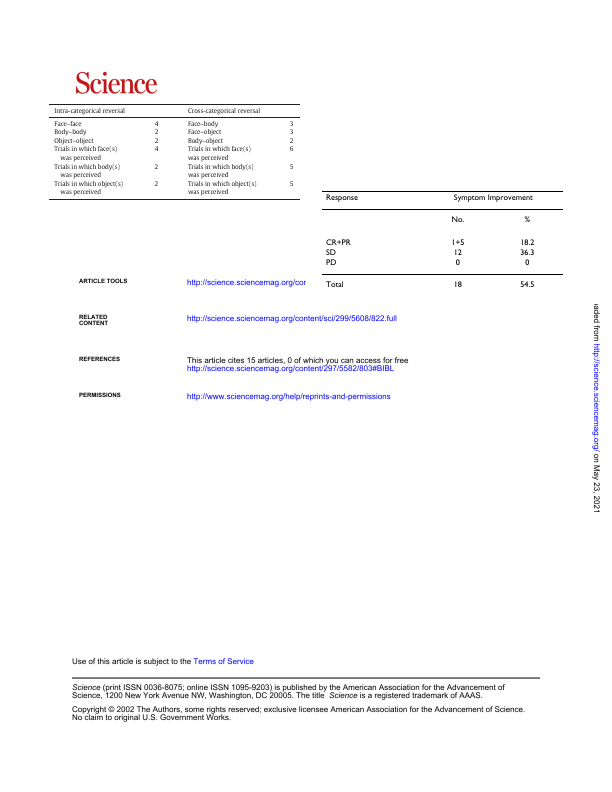borderless: (320, 189, 564, 298), (48, 102, 300, 199)
cell: (53, 180, 124, 197), (187, 180, 258, 197), (53, 162, 121, 179), (187, 162, 255, 179), (53, 145, 118, 162), (187, 145, 252, 162), (452, 194, 533, 203), (187, 107, 261, 115), (53, 107, 126, 115), (53, 137, 95, 145), (53, 128, 88, 137), (187, 128, 222, 137), (324, 194, 358, 203), (187, 137, 224, 145), (324, 238, 351, 248), (187, 120, 219, 128), (53, 120, 83, 128), (324, 281, 344, 290), (519, 238, 535, 248), (519, 248, 535, 258), (450, 238, 465, 248), (519, 281, 535, 290), (450, 216, 465, 225), (324, 248, 336, 258), (324, 259, 337, 268), (452, 248, 462, 258), (452, 281, 462, 290), (523, 216, 531, 225), (289, 128, 295, 137), (289, 145, 295, 154), (289, 162, 295, 171), (454, 259, 460, 268), (524, 259, 530, 268), (289, 120, 295, 128), (289, 137, 295, 145), (289, 180, 295, 188), (154, 128, 159, 137), (154, 145, 159, 154), (154, 162, 159, 171), (154, 120, 159, 128), (154, 137, 159, 145), (154, 180, 159, 188)
